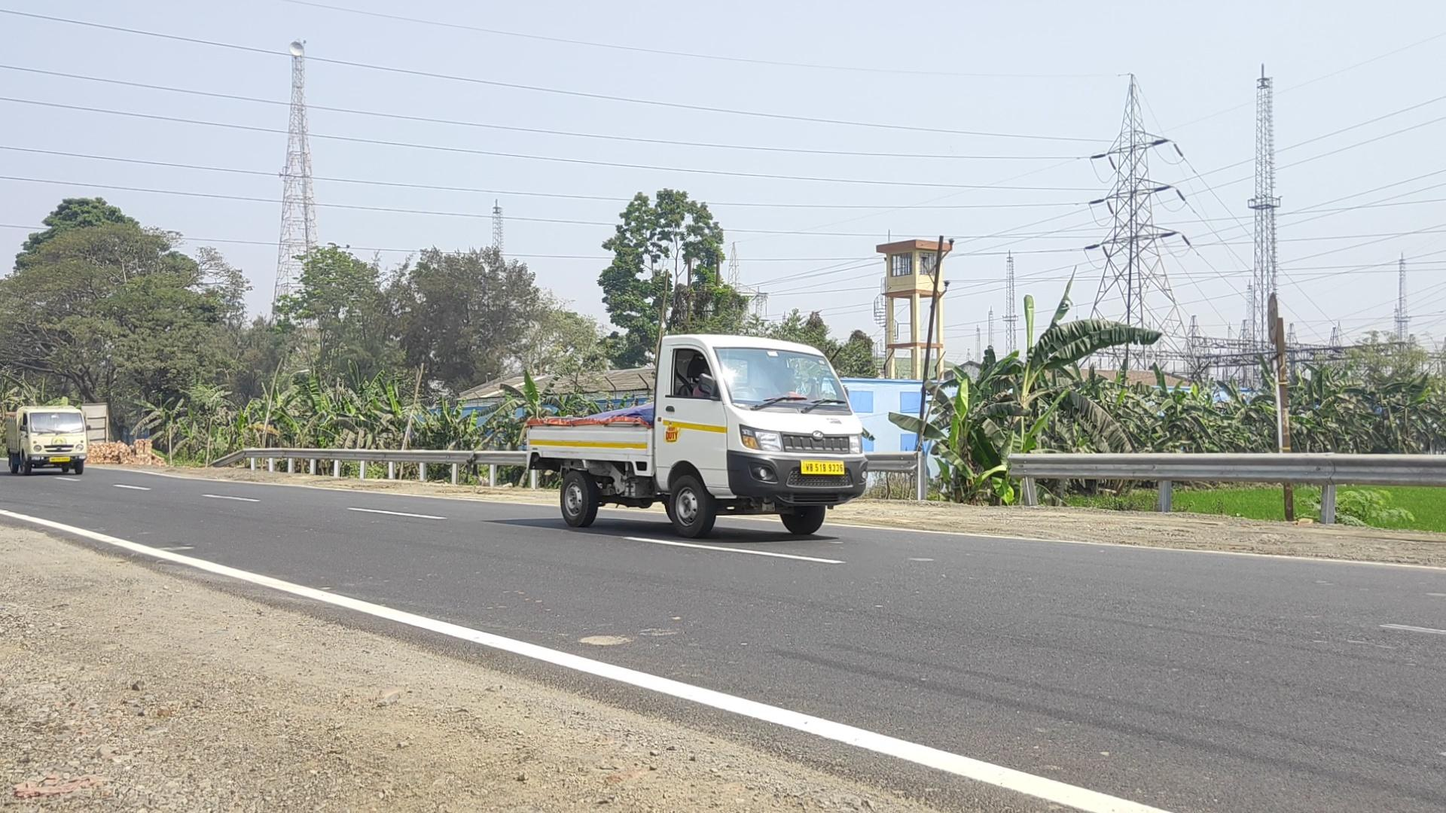van: (526, 333, 868, 538), (7, 405, 90, 476)
